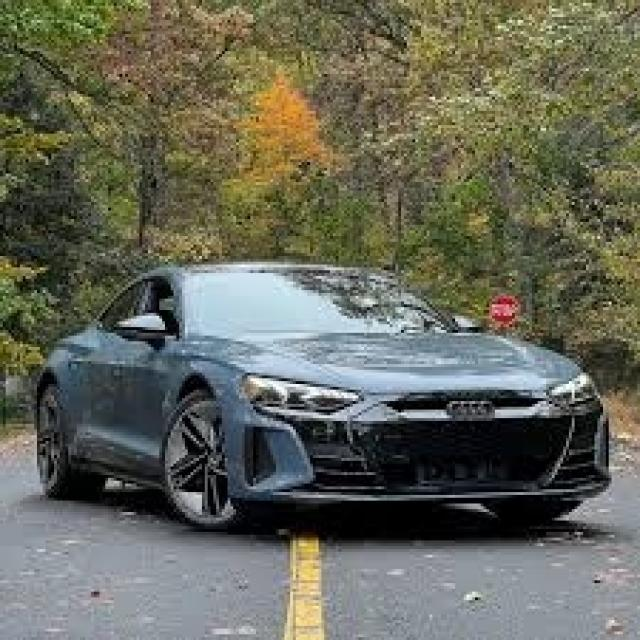black: (14, 256, 640, 515)
